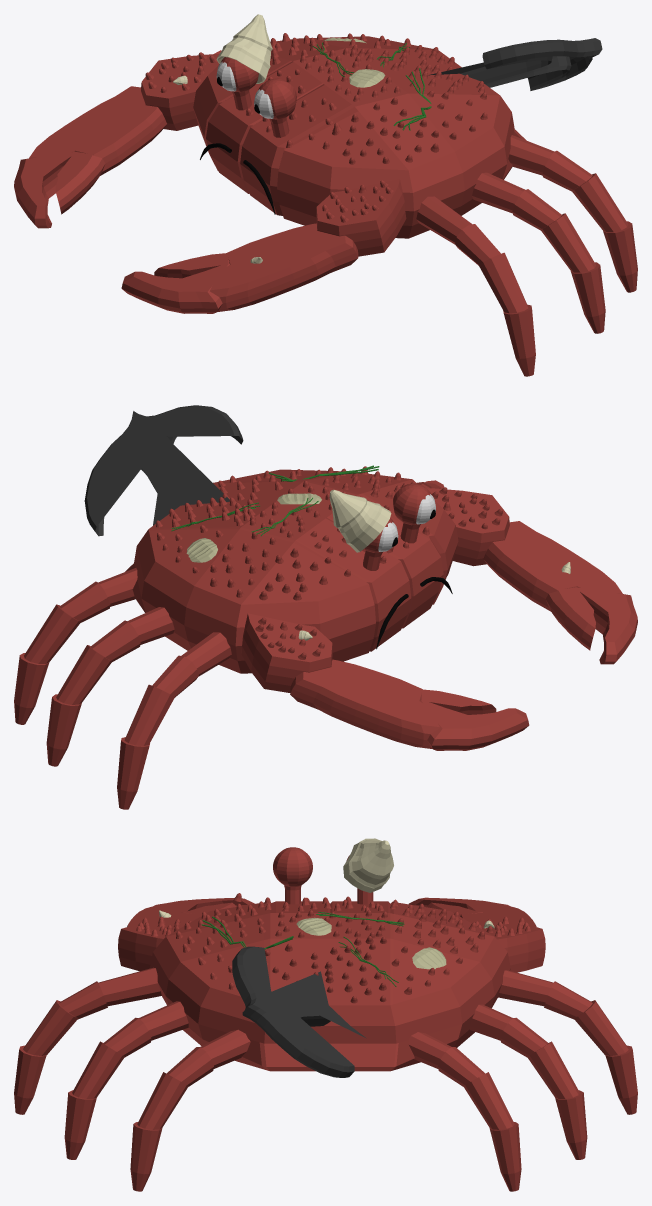
Rendered from Crab.fbx.
The picture shows the model from 3 angles, top to bottom: view 1: azimuth 30°, elevation 25°; view 2: azimuth 150°, elevation 25°; view 3: azimuth 270°, elevation 25°; orthographic projection. The views are drawn at different scales.
Visible parts, largest first — view 1: Plane, Plane.002, Plane.001, Cylinder.003, Cylinder.004, Cylinder.010, Plane.003, Plane.004, Sphere, Sphere.003, Circle.005; view 2: Plane, Plane.001, Plane.002, Plane.003, Cylinder.009, Cylinder.008, Cylinder.006, Plane.004, Sphere, Circle.004; view 3: Plane, Plane.003, Cylinder.004, Cylinder.003, Cylinder.009, Cylinder.010, Cylinder.006, Cylinder.008, Plane.001, Plane.002, Plane.004, Sphere (+1 smaller).
Boxes of the visible parts, box(x1,y1,x2,y2) form: Plane: box(193, 36, 526, 238); Plane.002: box(121, 179, 406, 313); Plane.001: box(14, 54, 219, 228); Cylinder.003: box(472, 172, 605, 333); Cylinder.004: box(416, 196, 535, 376); Cylinder.010: box(508, 135, 637, 292); Plane.003: box(428, 38, 602, 90); Plane.004: box(216, 14, 272, 83); Sphere: box(258, 78, 296, 119); Sphere.003: box(221, 57, 258, 92); Circle.005: box(349, 69, 385, 87); Plane: box(125, 469, 458, 673); Plane.001: box(241, 613, 529, 750); Plane.002: box(427, 488, 637, 664); Plane.003: box(84, 405, 243, 536); Cylinder.009: box(117, 632, 231, 809); Cylinder.008: box(46, 607, 174, 766); Cylinder.006: box(14, 568, 137, 724); Plane.004: box(329, 489, 391, 552); Sphere: box(393, 483, 431, 525); Circle.004: box(186, 538, 217, 562); Plane: box(150, 901, 510, 1071); Plane.003: box(232, 946, 366, 1077); Cylinder.004: box(14, 967, 161, 1114); Cylinder.003: box(64, 1001, 188, 1159); Cylinder.009: box(498, 970, 637, 1114); Cylinder.010: box(130, 1029, 250, 1191); Cylinder.006: box(408, 1032, 521, 1191); Cylinder.008: box(470, 1004, 587, 1159); Plane.001: box(409, 897, 545, 972); Plane.002: box(118, 898, 254, 971); Plane.004: box(343, 838, 393, 892); Sphere: box(273, 847, 312, 886).
Size of the model in its own units: 456 by 215 by 519.
